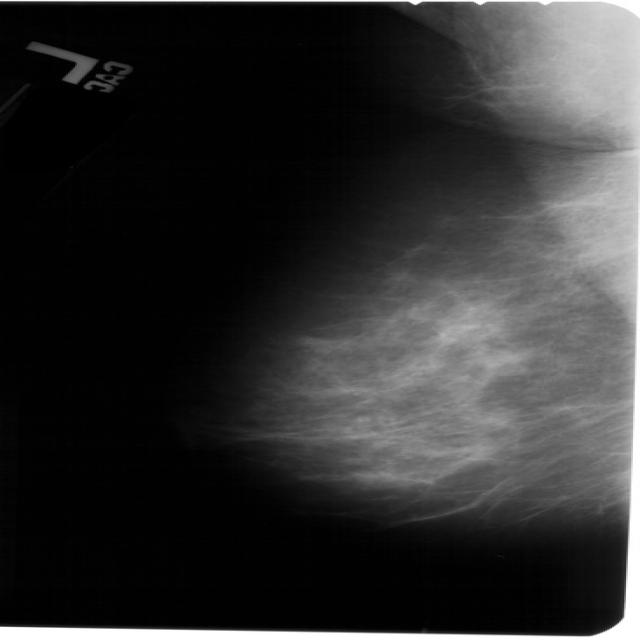tumour: (432, 298, 499, 340)
